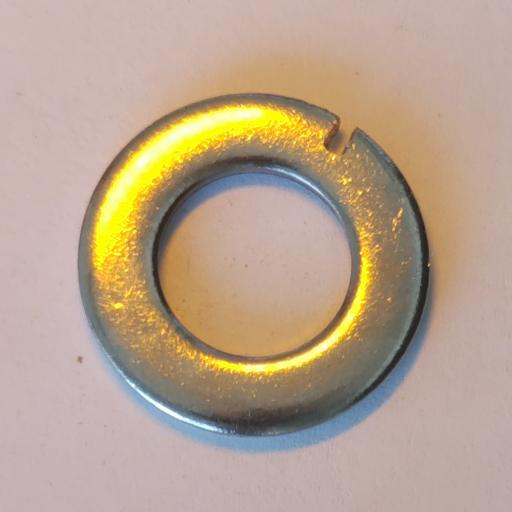burr: (324, 118, 359, 159)
